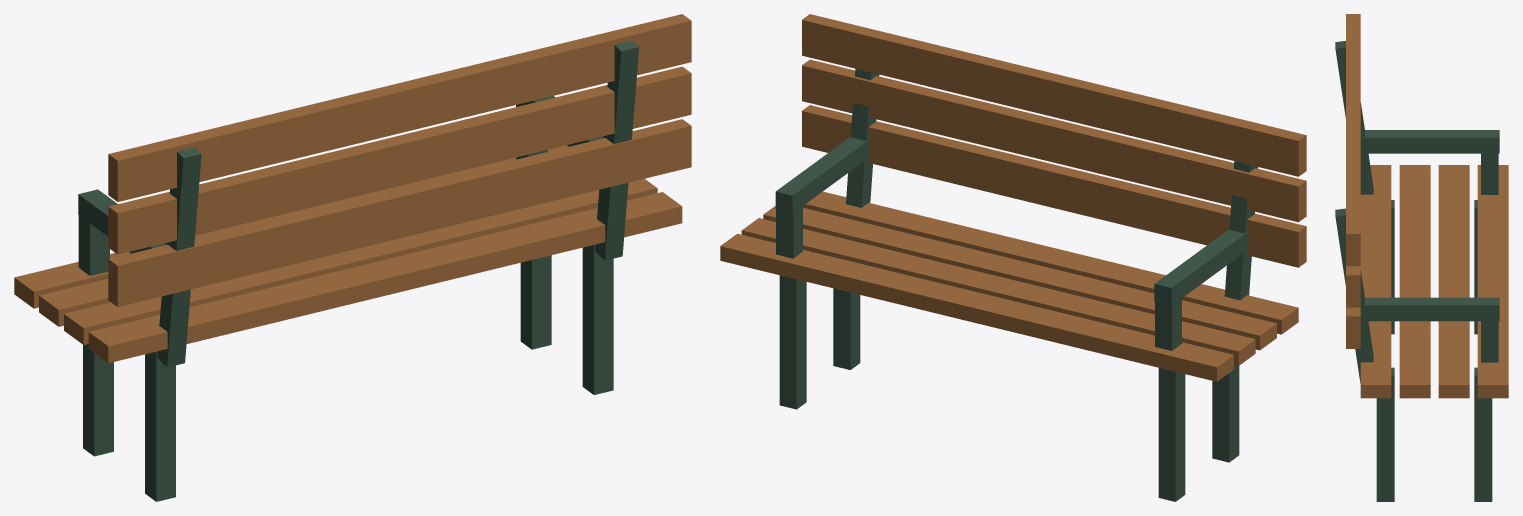
The model's file is bench.glb.
3 views of the same model, side by side, from view 1: azimuth 30°, elevation 25°; view 2: azimuth 150°, elevation 25°; view 3: azimuth 270°, elevation 25° (orthographic). The views are drawn at different scales.
Visible parts, largest first — view 1: MemoryGate_bench; view 2: MemoryGate_bench; view 3: MemoryGate_bench.
Boxes of the visible parts, <box> form: MemoryGate_bench: <box>14,14,691,501</box>; MemoryGate_bench: <box>720,14,1306,501</box>; MemoryGate_bench: <box>1335,14,1508,501</box>.
Size of the model in its own units: 1.6 by 0.985 by 0.5323.
